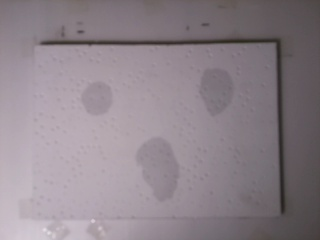Water_detected: (138, 148, 184, 194), (199, 73, 230, 112), (88, 83, 117, 114)
